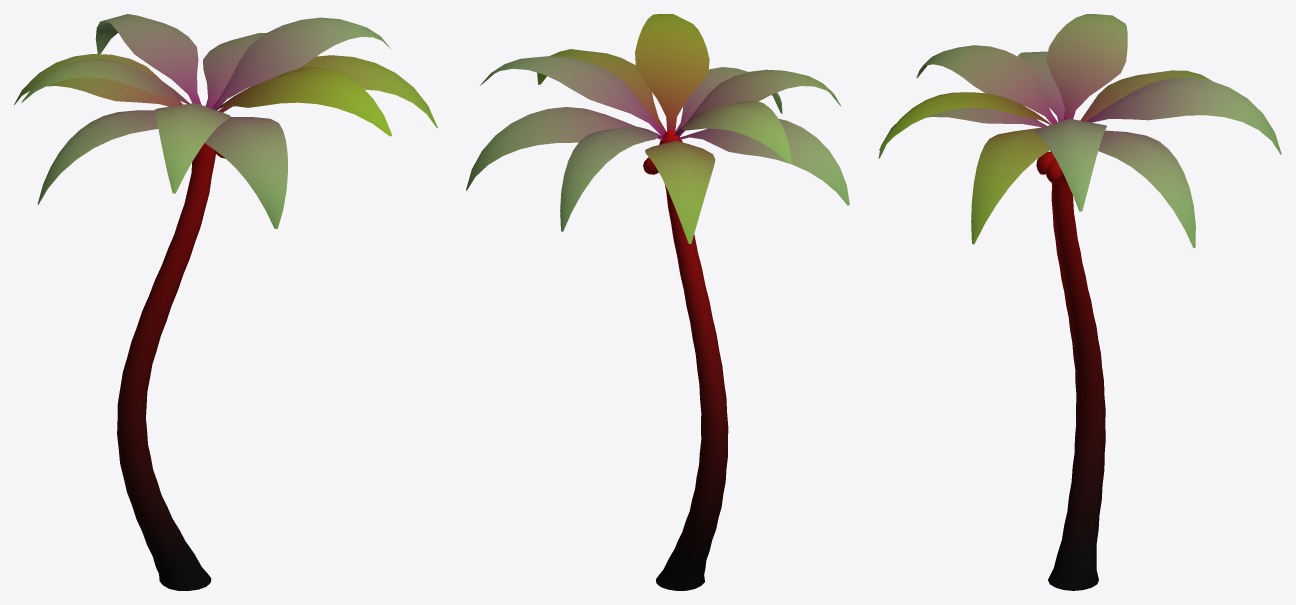
Rendered from SM_Palm_03.glb.
3 renders of one model, left to right at view 1: azimuth 30°, elevation 25°; view 2: azimuth 150°, elevation 25°; view 3: azimuth 270°, elevation 25°, orthographic. The views are drawn at different scales.
Visible parts, largest first — view 1: SM_Palm_03_LOD0; view 2: SM_Palm_03_LOD0; view 3: SM_Palm_03_LOD0.
Part boxes in pixels (x1=…): SM_Palm_03_LOD0: x1=14, y1=14, x2=437, y2=590; SM_Palm_03_LOD0: x1=466, y1=14, x2=849, y2=590; SM_Palm_03_LOD0: x1=878, y1=14, x2=1281, y2=590.
Size of what is drawn, in the model's own units: 5.17 by 7 by 4.94.
